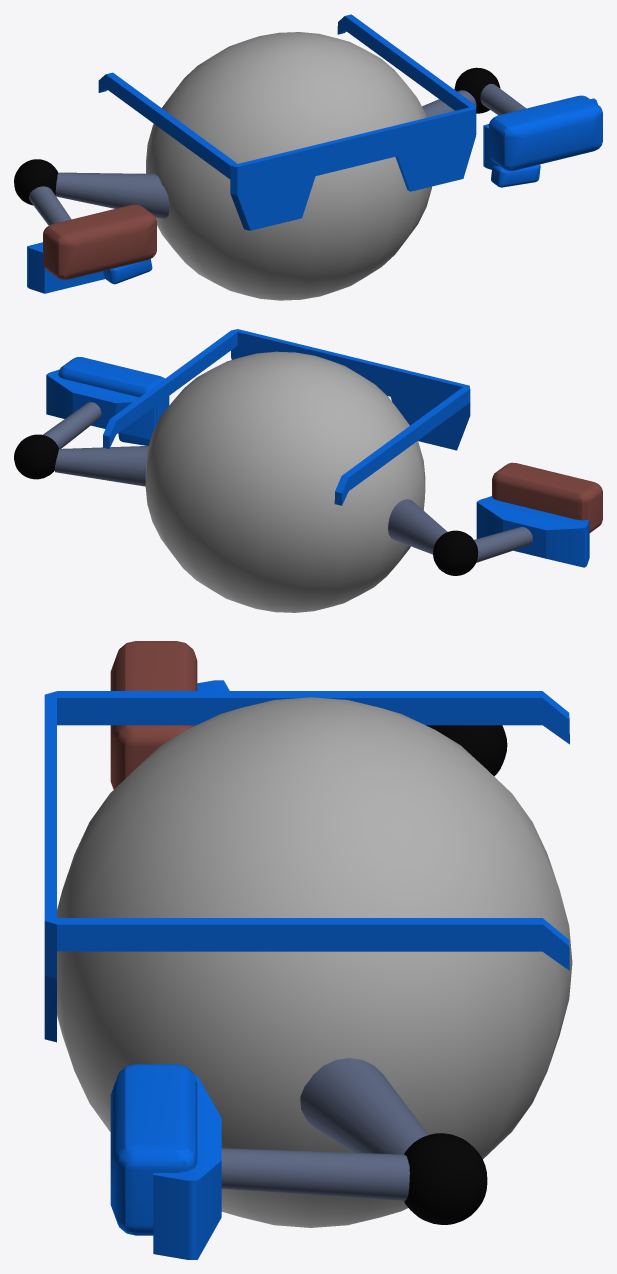
File: Player 2 Char.fbx
3 renders of one model, top to bottom at view 1: azimuth 30°, elevation 25°; view 2: azimuth 150°, elevation 25°; view 3: azimuth 270°, elevation 25°, orthographic. The views are drawn at different scales.
Parts seen in each view (by area): view 1: pSphere1, pCube3, pCube4, pCube6, pCylinder3, pCube2, pasted__pSphere5, pasted__pSphere1, pCylinder4, pCube7, pCylinder2, pCube5 (+1 smaller); view 2: pSphere1, pCube3, pCube4, pCube2, pCube1, pCylinder1, pCube6, pCylinder3, pasted__pSphere5, pasted__pSphere1, pCylinder4, pCylinder2; view 3: pSphere1, pCube3, pCube6, pCylinder2, pCylinder1, pCube1, pCube4, pasted__pSphere1, pasted__pSphere5.
Part boxes in pixels (x1,y1,x2,y2): pSphere1: [146, 32, 431, 300]; pCube3: [98, 14, 476, 230]; pCube4: [43, 204, 156, 279]; pCube6: [488, 95, 602, 170]; pCylinder3: [55, 172, 169, 218]; pCube2: [27, 242, 105, 293]; pasted__pSphere5: [14, 159, 57, 205]; pasted__pSphere1: [454, 67, 500, 113]; pCylinder4: [29, 186, 71, 225]; pCube7: [491, 164, 540, 187]; pCylinder2: [480, 83, 525, 115]; pCube5: [103, 259, 152, 284]; pSphere1: [145, 351, 425, 612]; pCube3: [103, 329, 470, 505]; pCube4: [492, 462, 602, 532]; pCube2: [476, 496, 589, 567]; pCube1: [46, 369, 156, 439]; pCylinder1: [55, 446, 148, 486]; pCube6: [58, 357, 169, 423]; pCylinder3: [388, 499, 447, 554]; pasted__pSphere5: [433, 530, 478, 575]; pasted__pSphere1: [14, 434, 58, 479]; pCylinder4: [474, 527, 532, 562]; pCylinder2: [43, 402, 101, 448]; pSphere1: [57, 697, 572, 1227]; pCube3: [44, 691, 569, 1042]; pCube6: [110, 1064, 197, 1235]; pCylinder2: [221, 1148, 409, 1201]; pCylinder1: [300, 1058, 428, 1154]; pCube1: [153, 1075, 221, 1259]; pCube4: [110, 641, 197, 789]; pasted__pSphere1: [404, 1133, 487, 1224]; pasted__pSphere5: [426, 725, 507, 776].
Size of the model in its own units: 15.7 by 6.48 by 6.59.
